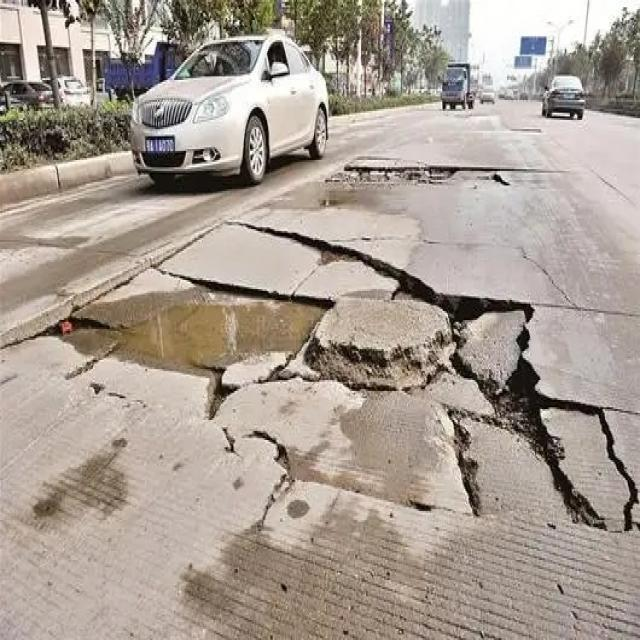Buraco: (32, 217, 640, 539), (322, 162, 514, 191)
